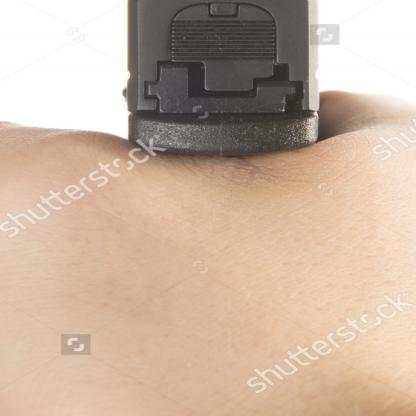gun: (95, 0, 363, 221)
